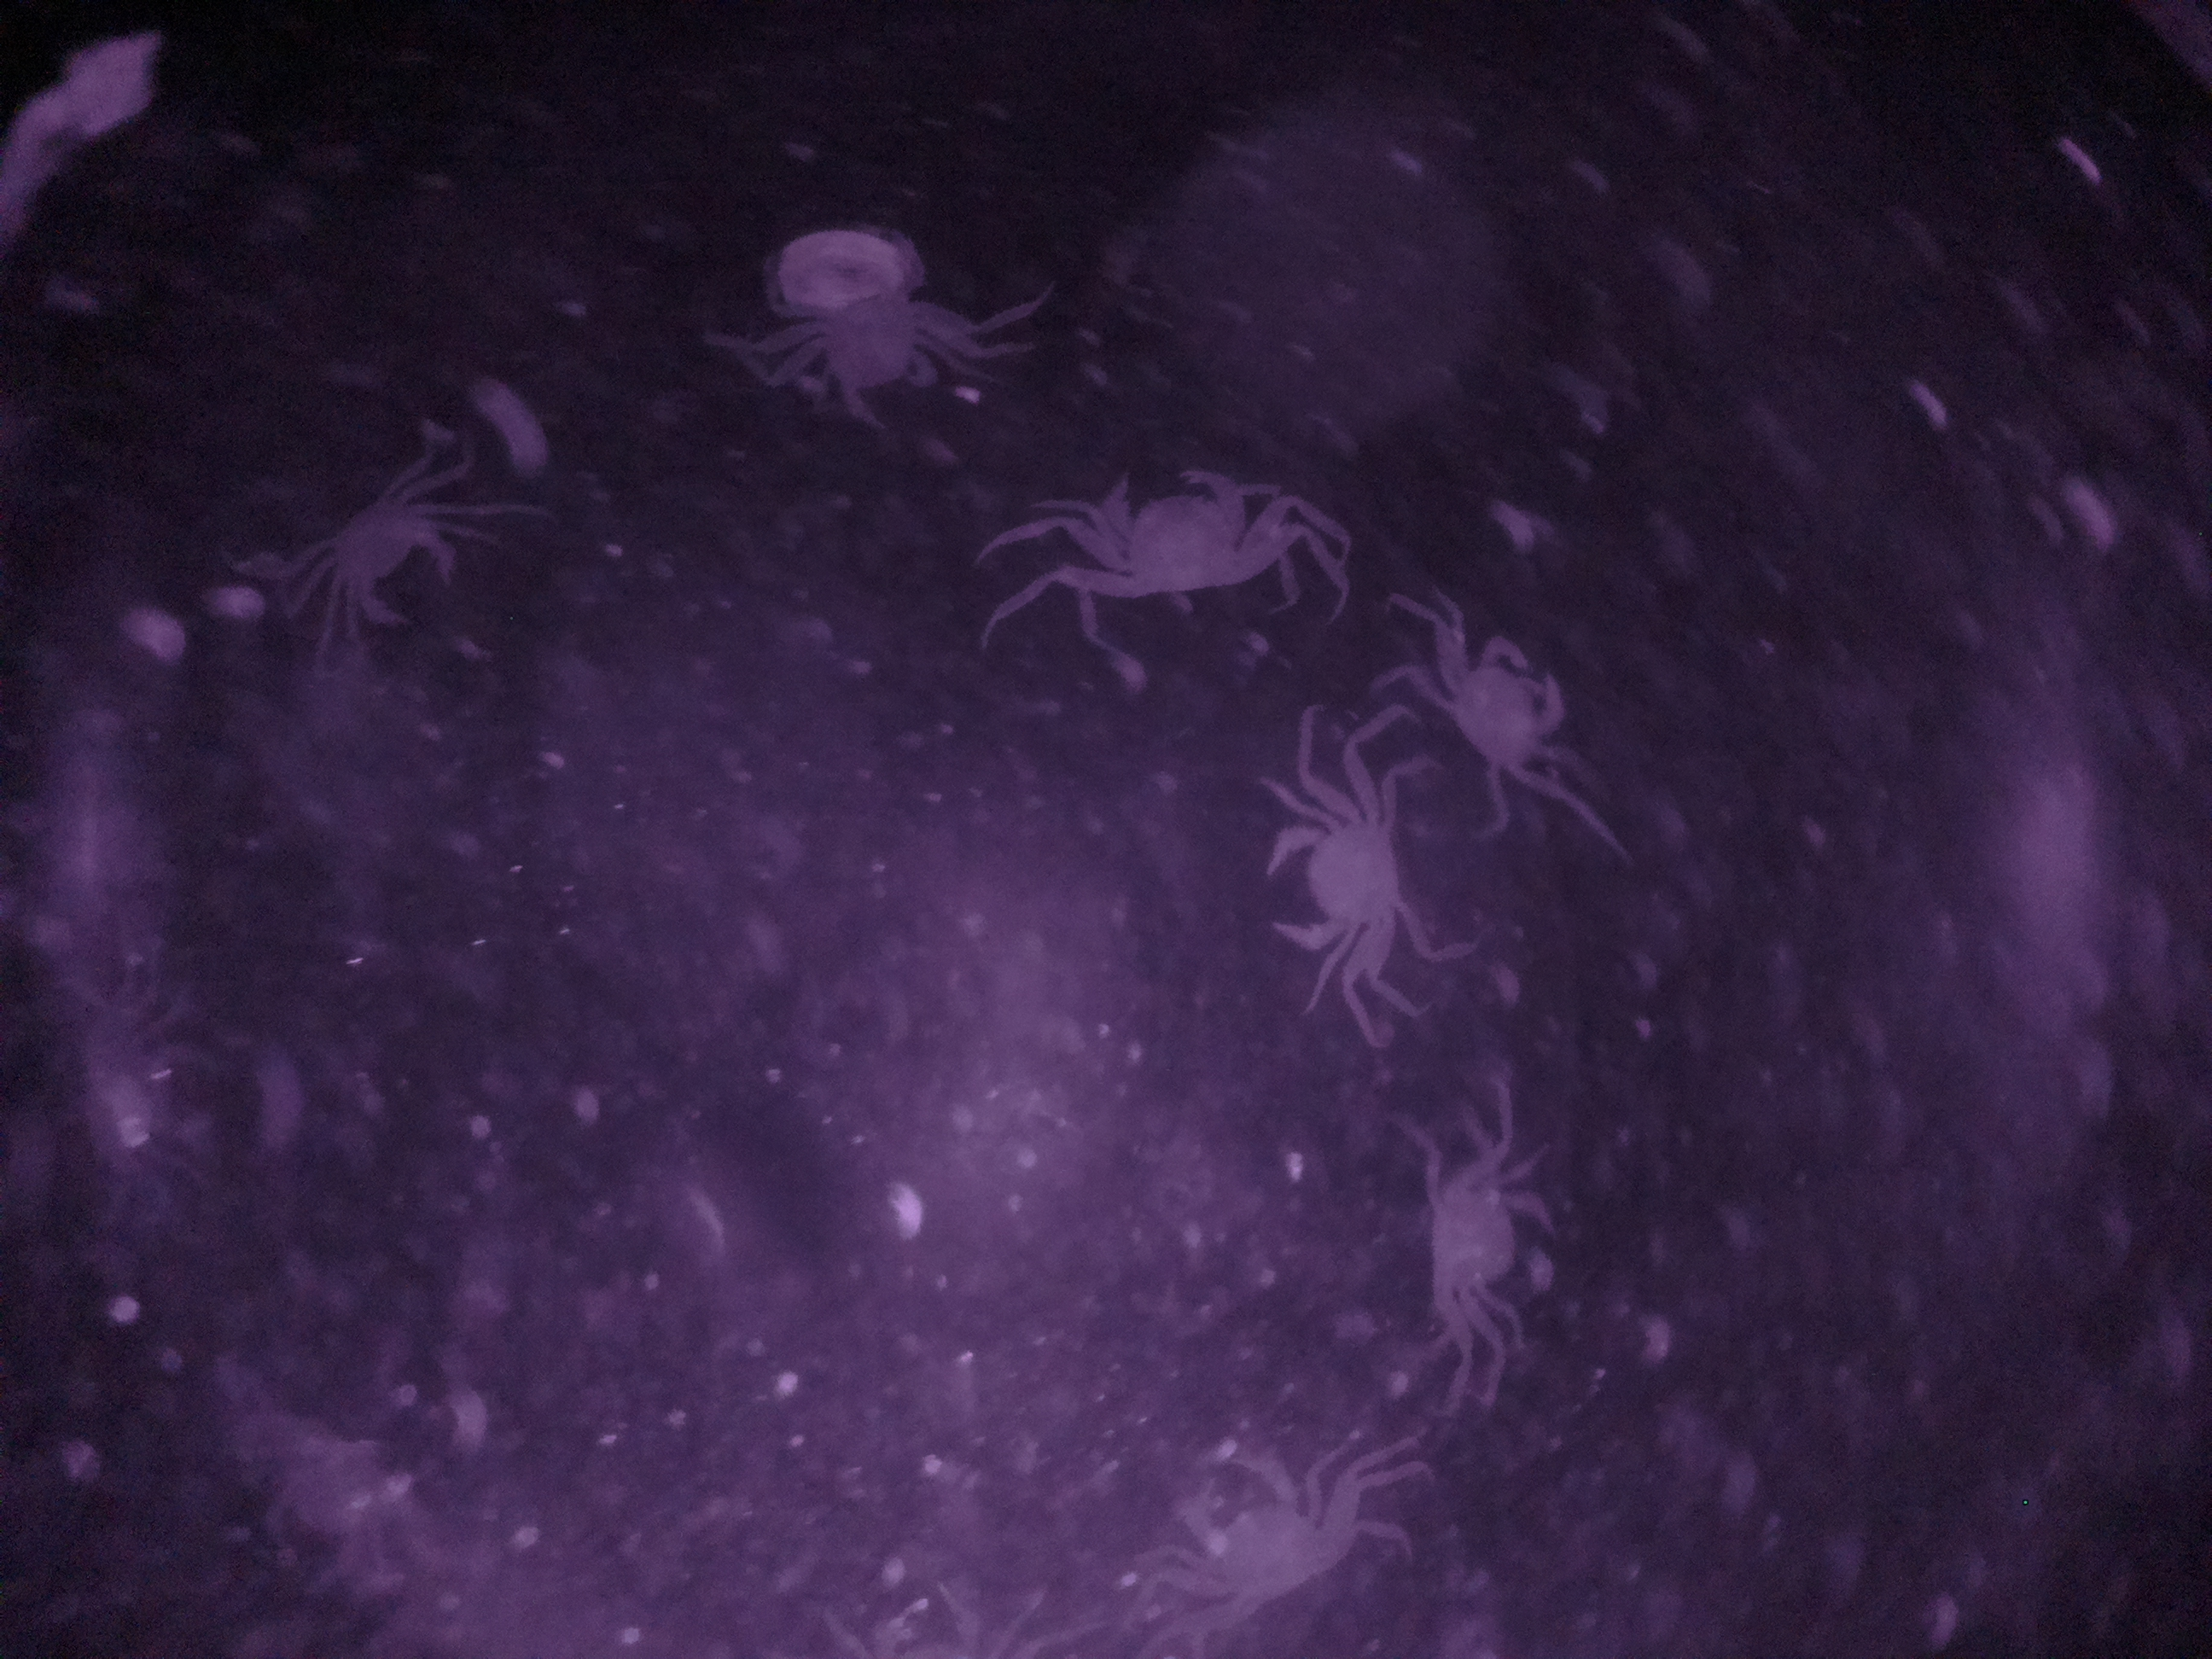Crab: (1069, 443, 1287, 640), (291, 457, 493, 652), (1395, 1129, 1564, 1359), (1259, 772, 1418, 1009), (1433, 599, 1585, 798)
